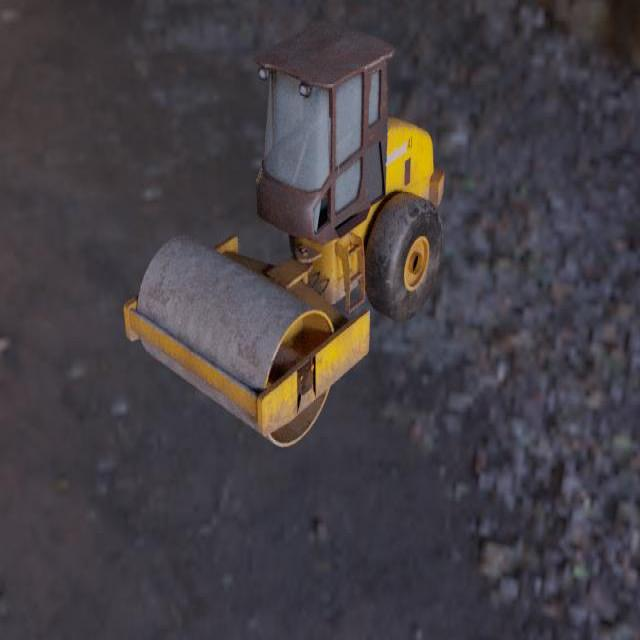Roller: (123, 21, 444, 447)
